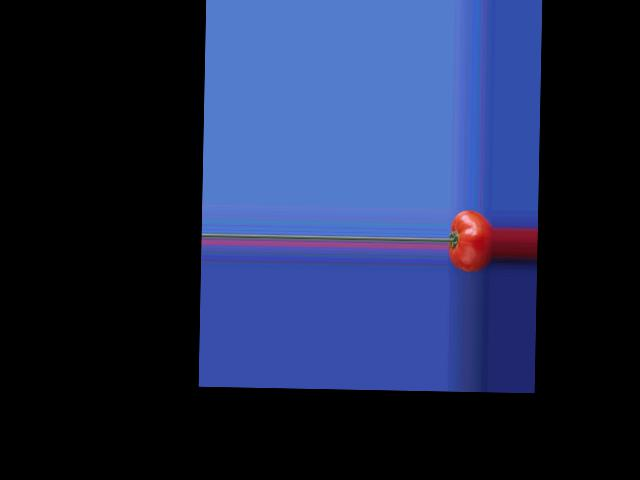tomato: (447, 210, 494, 272)
